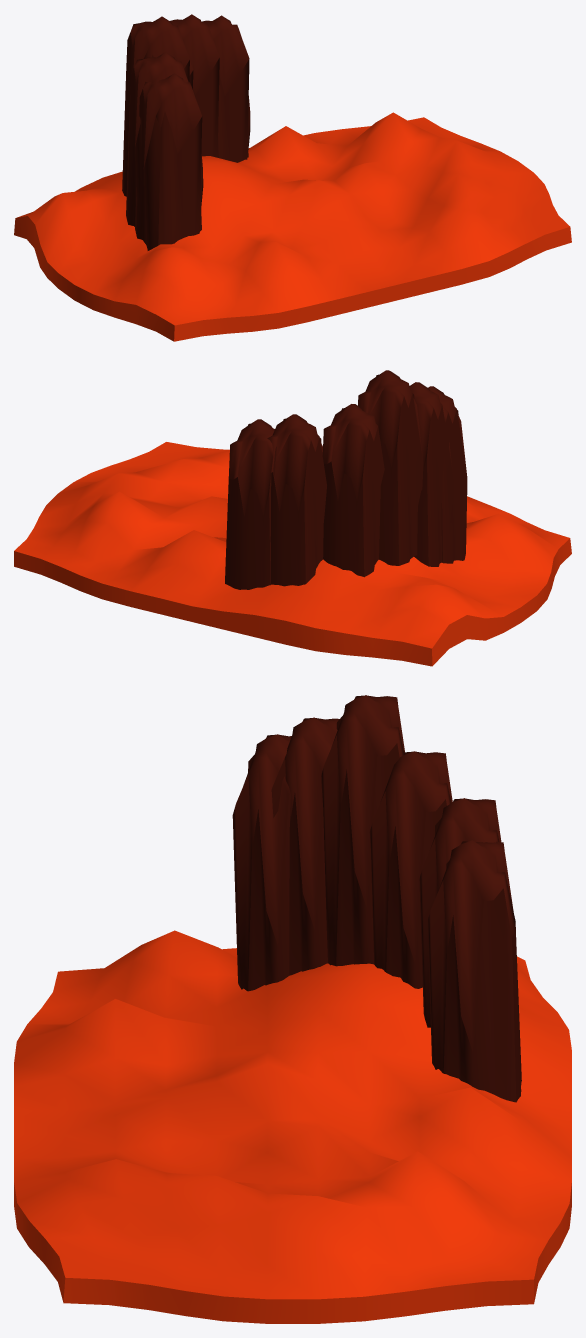
The model's file is desert_rock_formation.FBX.
The picture shows the model from 3 angles, top to bottom: view 1: azimuth 30°, elevation 25°; view 2: azimuth 150°, elevation 25°; view 3: azimuth 270°, elevation 25°; orthographic projection. The views are drawn at different scales.
Visible parts, largest first — view 1: Box001, Box002, Box007, Box006, Box003, Box004; view 2: Box001, Box005, Box006, Box004, Box007, Box003, Box002; view 3: Box001, Box007, Box004, Box005, Box002, Box003, Box006.
Boxes of the visible parts, x1,y1,x2,y2 form: Box001: [14, 112, 571, 341]; Box002: [135, 73, 203, 250]; Box007: [201, 15, 250, 162]; Box006: [170, 14, 219, 157]; Box003: [126, 52, 188, 226]; Box004: [122, 16, 189, 196]; Box001: [14, 442, 571, 666]; Box005: [322, 404, 384, 577]; Box006: [267, 414, 326, 586]; Box004: [358, 370, 423, 565]; Box007: [225, 419, 276, 589]; Box003: [409, 382, 452, 566]; Box002: [428, 386, 467, 563]; Box001: [14, 930, 571, 1323]; Box007: [427, 840, 521, 1102]; Box004: [321, 695, 404, 966]; Box005: [369, 751, 452, 988]; Box002: [232, 734, 291, 991]; Box003: [271, 717, 339, 975]; Box006: [419, 798, 501, 1027].
Bounding box in the file's own units: 420 × 203 × 280.
